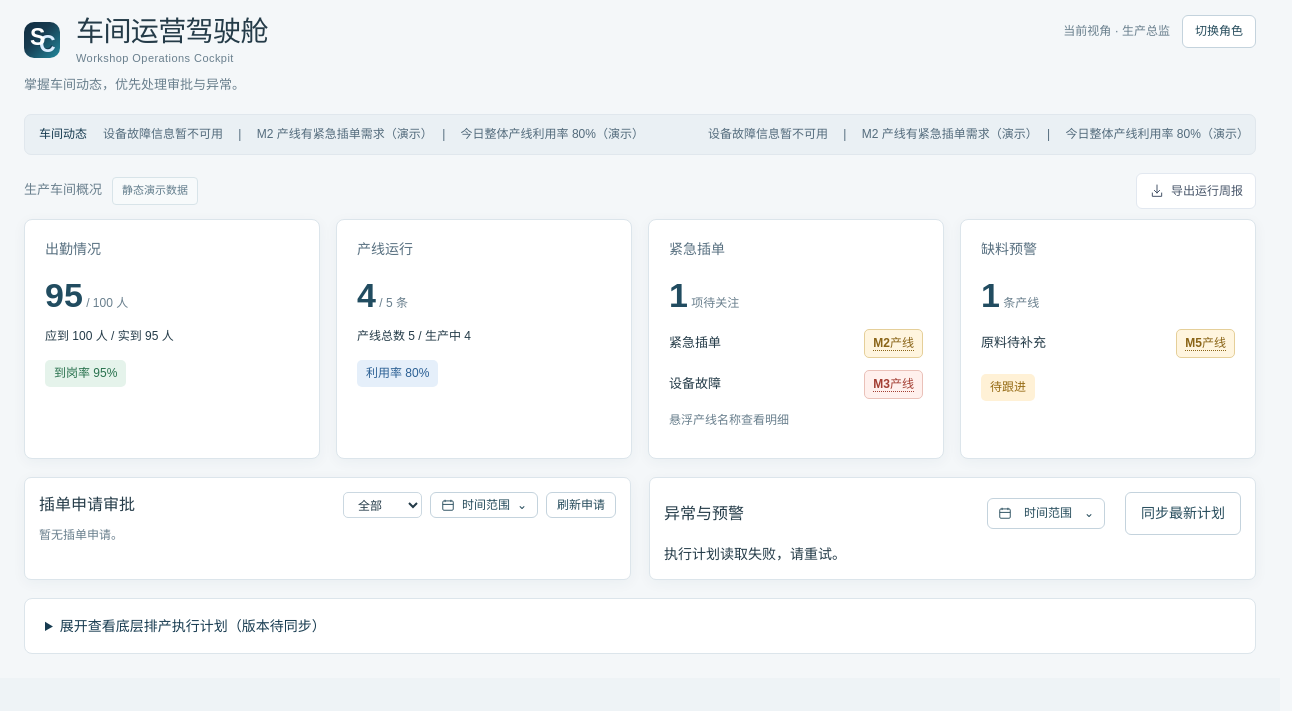
Test case: recovers a failed formal plan read and refreshes to the latest version
This screenshot has width=1292, height=711.
Expected: the text "执行计划读取失败，请重试。" is shown, [664, 546, 846, 562]
Click the button "同步最新计划" at point(1183, 513), box [1125, 492, 1241, 535]
(page scrolled)
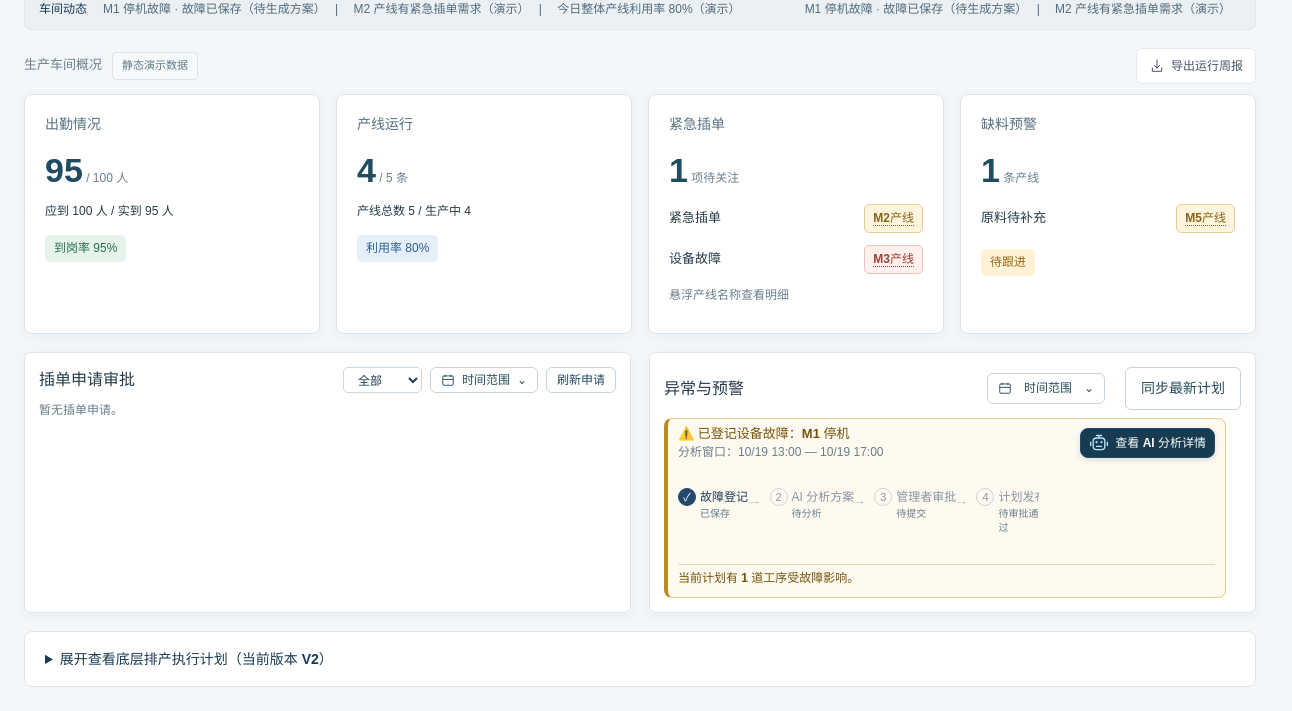
Click the heading "展开查看底层排产执行计划（当前版本 V2）" at point(196, 659), box [60, 651, 333, 667]
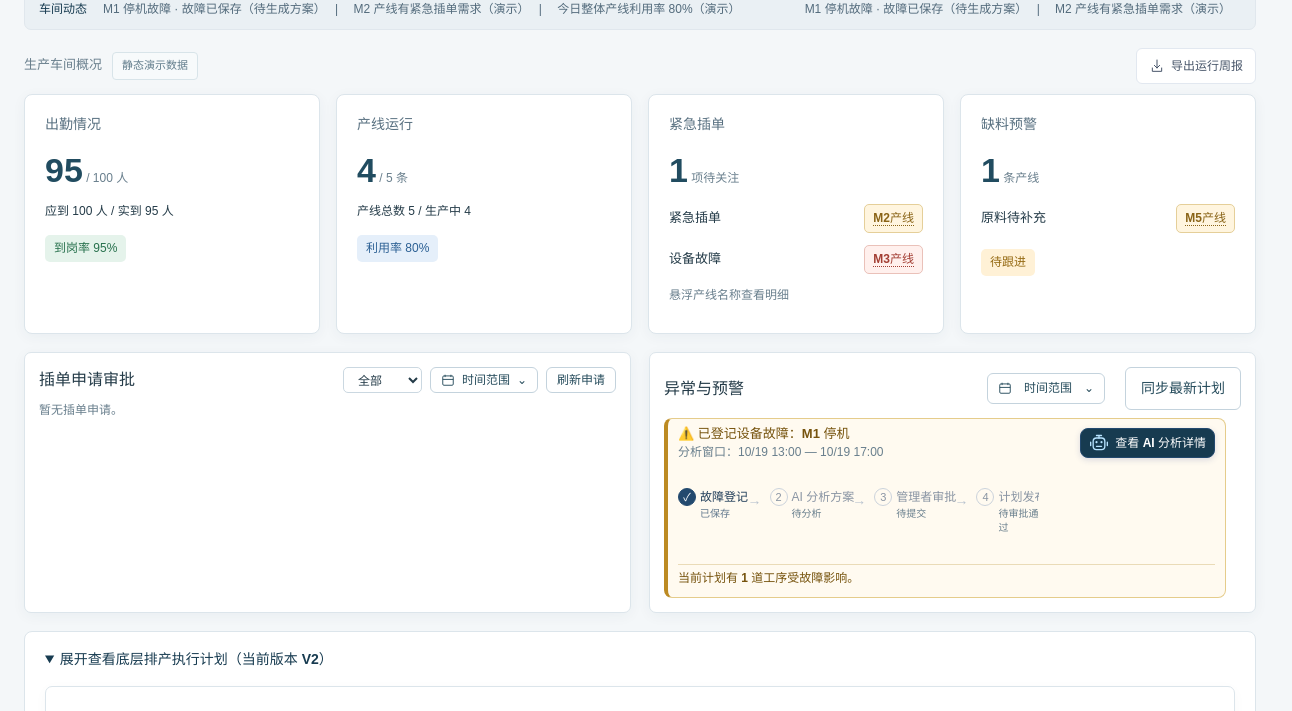
Click the button "同步最新计划" at point(1183, 388), box [1125, 367, 1241, 410]
(page scrolled)
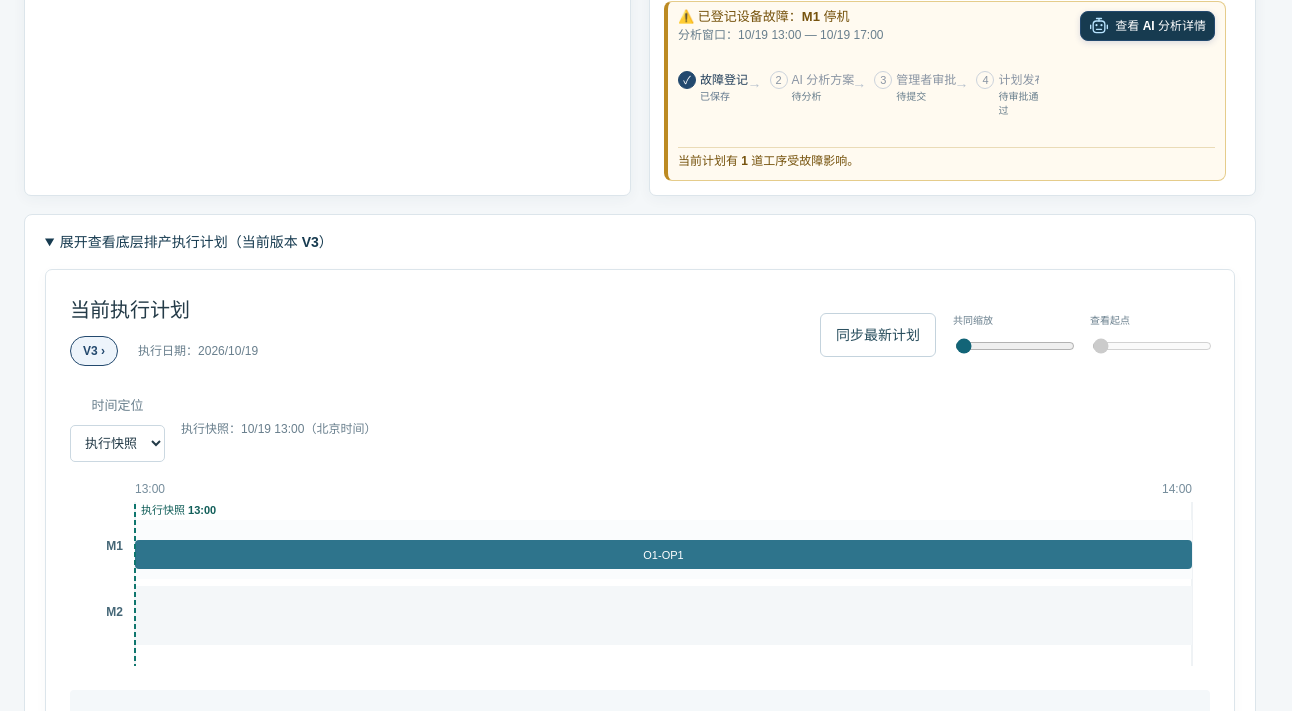
Result: the button named "查看执行计划 V3 发布信息" is shown at [70, 336, 118, 366]
